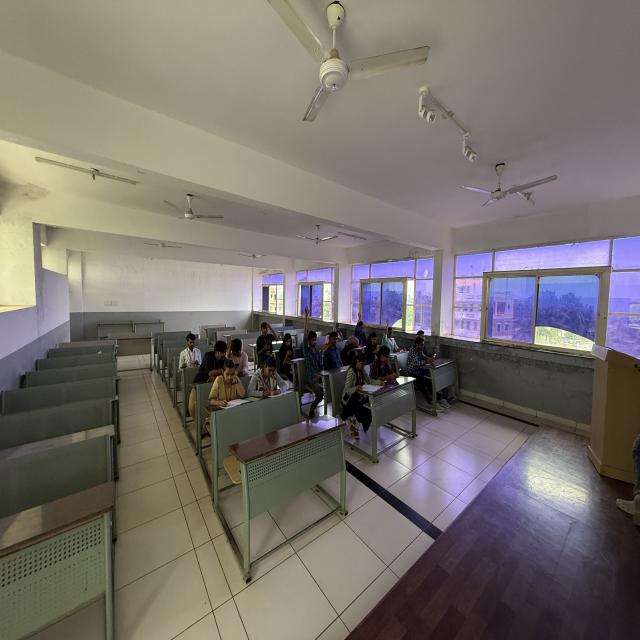Hand Rising: (295, 305, 334, 402)
Reading: (341, 352, 384, 418)
Using Phone: (370, 340, 402, 390), (403, 336, 440, 377)
Writing: (202, 356, 245, 416), (246, 354, 293, 402)
